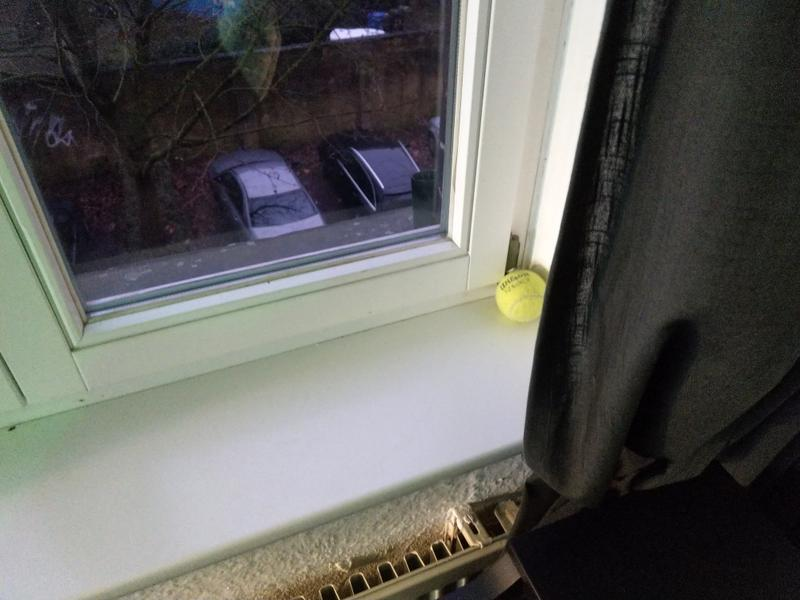Tennisball: (495, 267, 546, 325)
